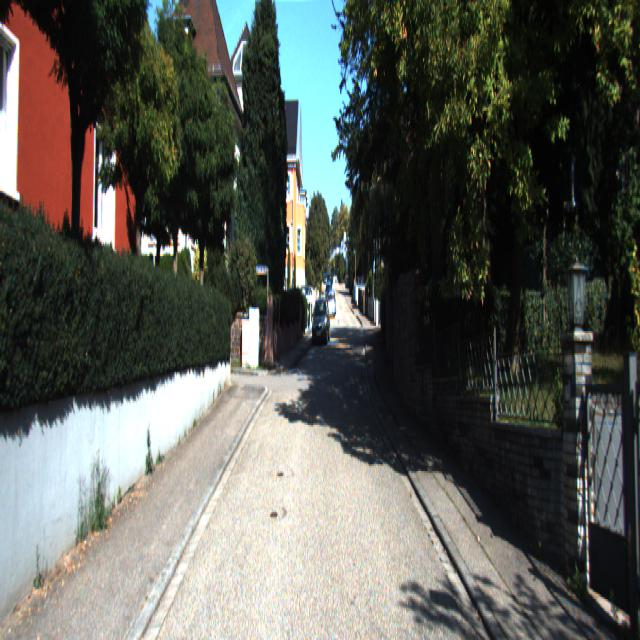Car: (311, 302, 331, 348)
